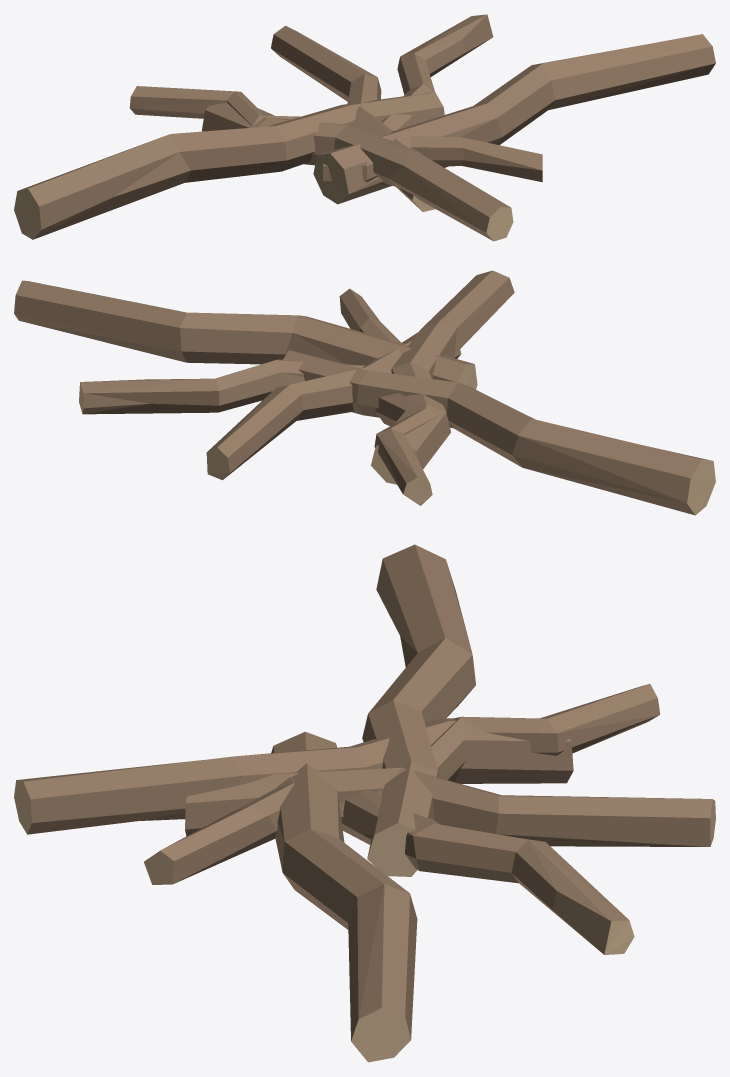
Rendered from 15-Recursos_monton_ramas.glb.
3 renders of one model, top to bottom at view 1: azimuth 30°, elevation 25°; view 2: azimuth 150°, elevation 25°; view 3: azimuth 270°, elevation 25°, orthographic. The views are drawn at different scales.
Visible parts, largest first — view 1: SM_Monton_M_Corteza_Rama_Madera_Rama; view 2: SM_Monton_M_Corteza_Rama_Madera_Rama; view 3: SM_Monton_M_Corteza_Rama_Madera_Rama.
Boxes of the visible parts, x1,y1,x2,y2 form: SM_Monton_M_Corteza_Rama_Madera_Rama: [14, 14, 715, 241]; SM_Monton_M_Corteza_Rama_Madera_Rama: [14, 270, 715, 515]; SM_Monton_M_Corteza_Rama_Madera_Rama: [14, 544, 715, 1062].
Bounding box in the file's own units: 1.57 × 0.1338 × 1.
